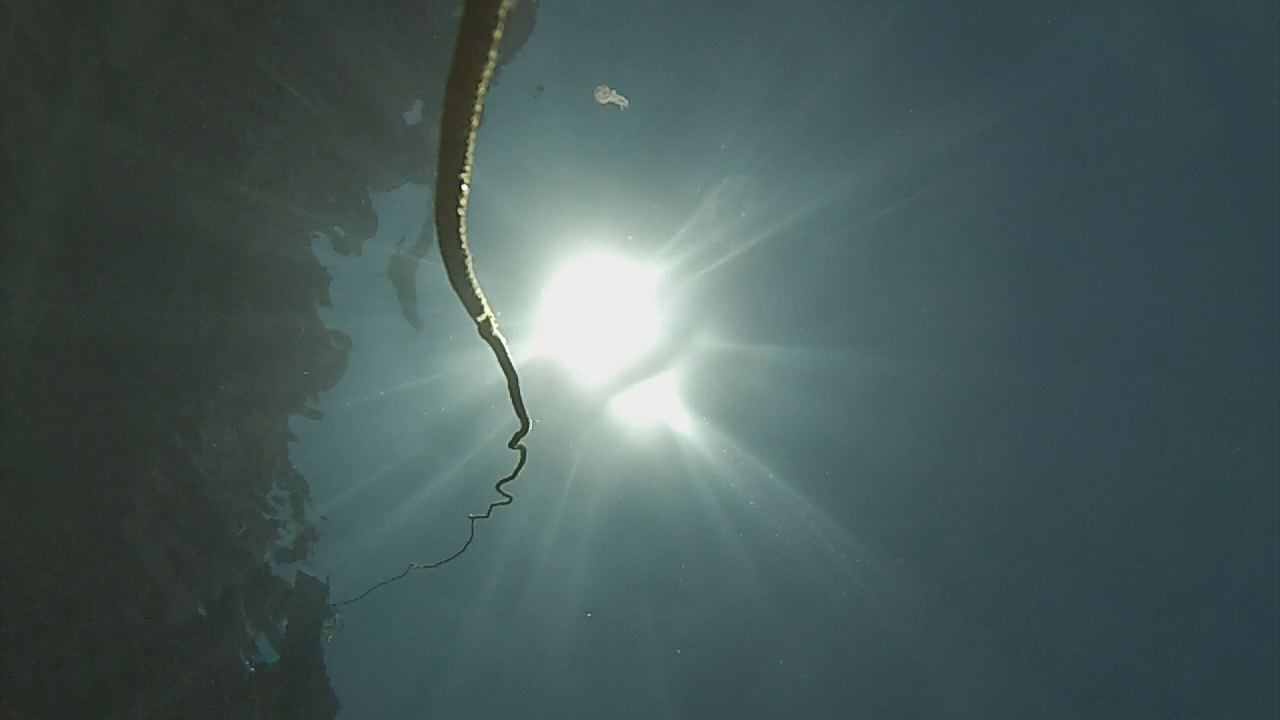pelagia: (588, 80, 640, 118)
